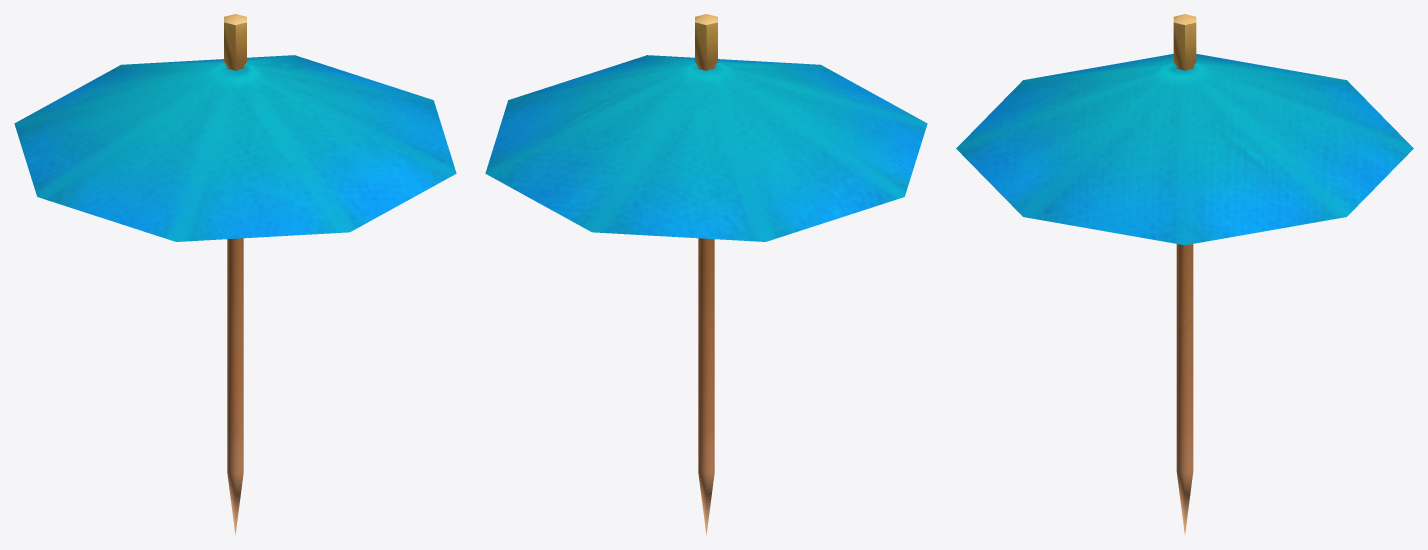
Rendered from SE_Cocktail_Umbrella_01.fbx.
The picture shows the model from 3 angles, left to right: view 1: azimuth 30°, elevation 25°; view 2: azimuth 150°, elevation 25°; view 3: azimuth 270°, elevation 25°; orthographic projection.
Visible parts, largest first — view 1: SE_Cocktail_Umbrella_01; view 2: SE_Cocktail_Umbrella_01; view 3: SE_Cocktail_Umbrella_01.
Boxes of the visible parts, x1,y1,x2,y2 form: SE_Cocktail_Umbrella_01: (14, 14, 456, 535); SE_Cocktail_Umbrella_01: (485, 14, 927, 535); SE_Cocktail_Umbrella_01: (956, 14, 1413, 534).
Size of the model in its own units: 0.9395 by 1.18 by 0.9395.
